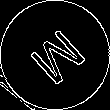M_SE: (21, 21, 89, 89)
